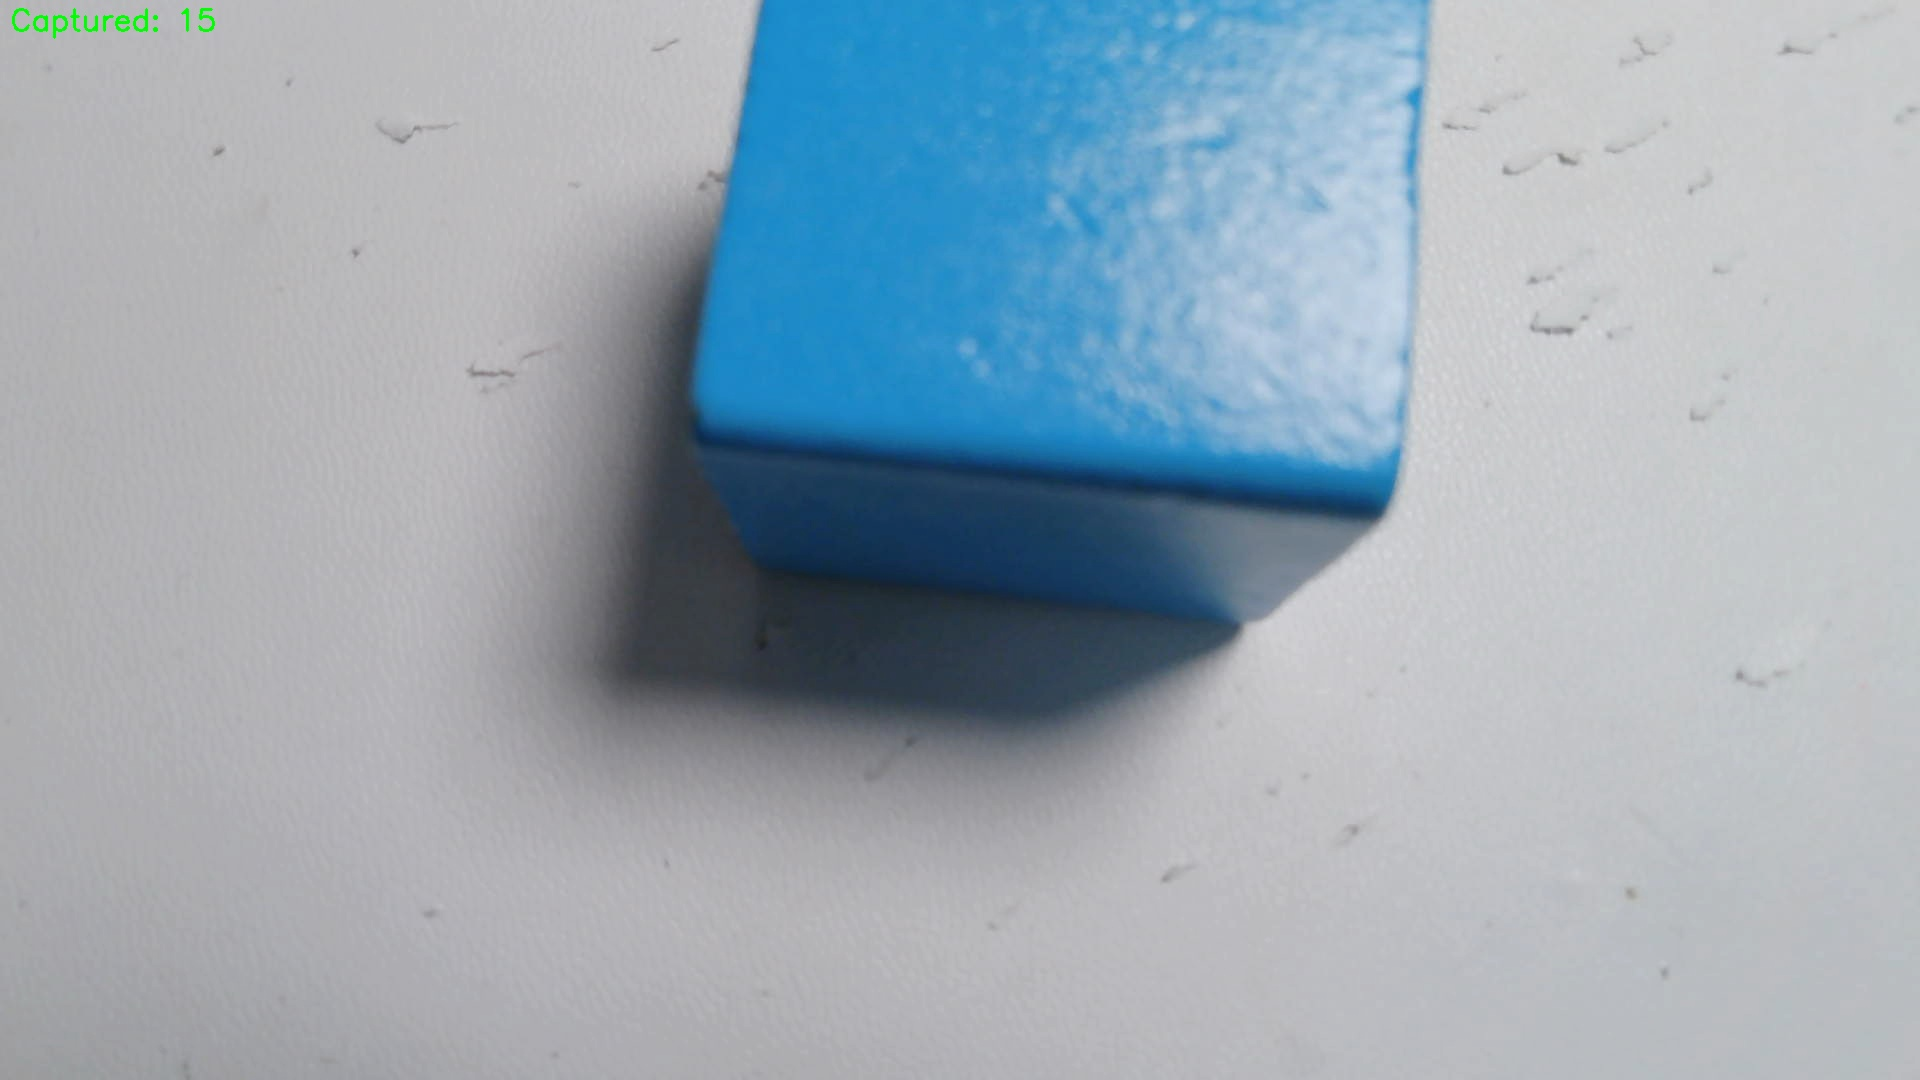blue: (705, 3, 1433, 629)
